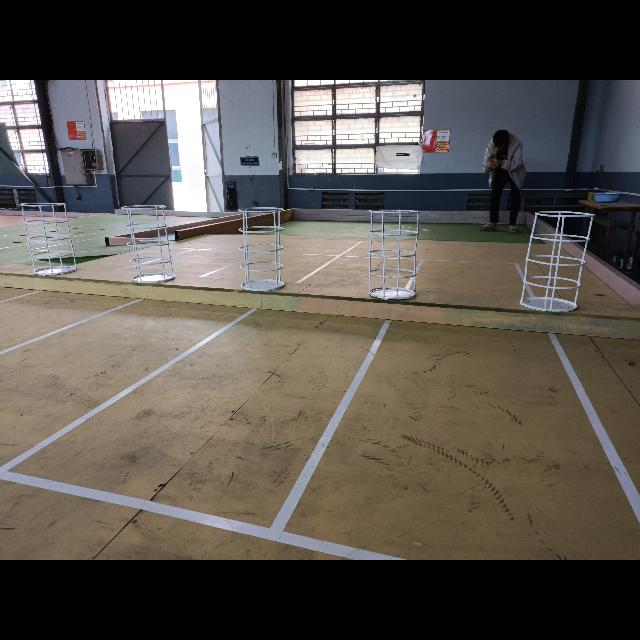S: (519, 210, 596, 312), (369, 209, 420, 300), (120, 204, 177, 284), (19, 202, 78, 276), (237, 206, 285, 292)
